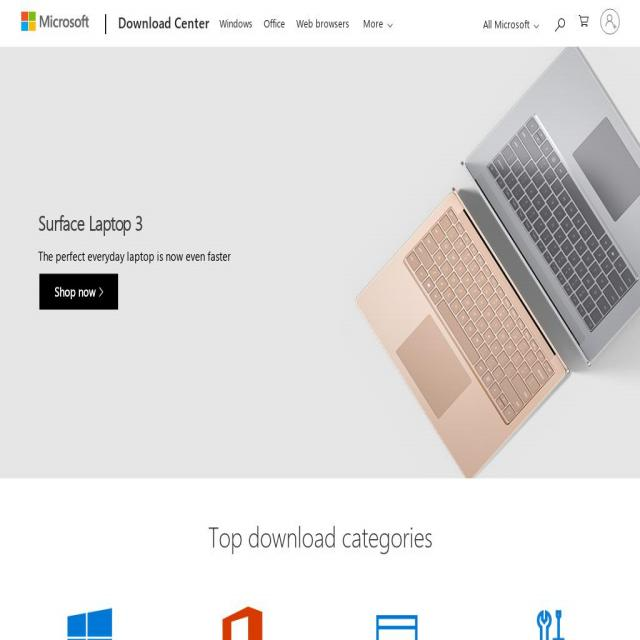buy-option: (31, 266, 130, 316)
download: (112, 8, 212, 38)
navigation-links: (106, 7, 402, 43)
options: (356, 13, 404, 42)
search: (549, 13, 570, 40)
